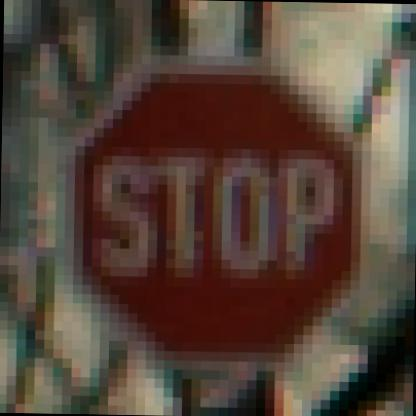stop: (41, 53, 384, 377)
